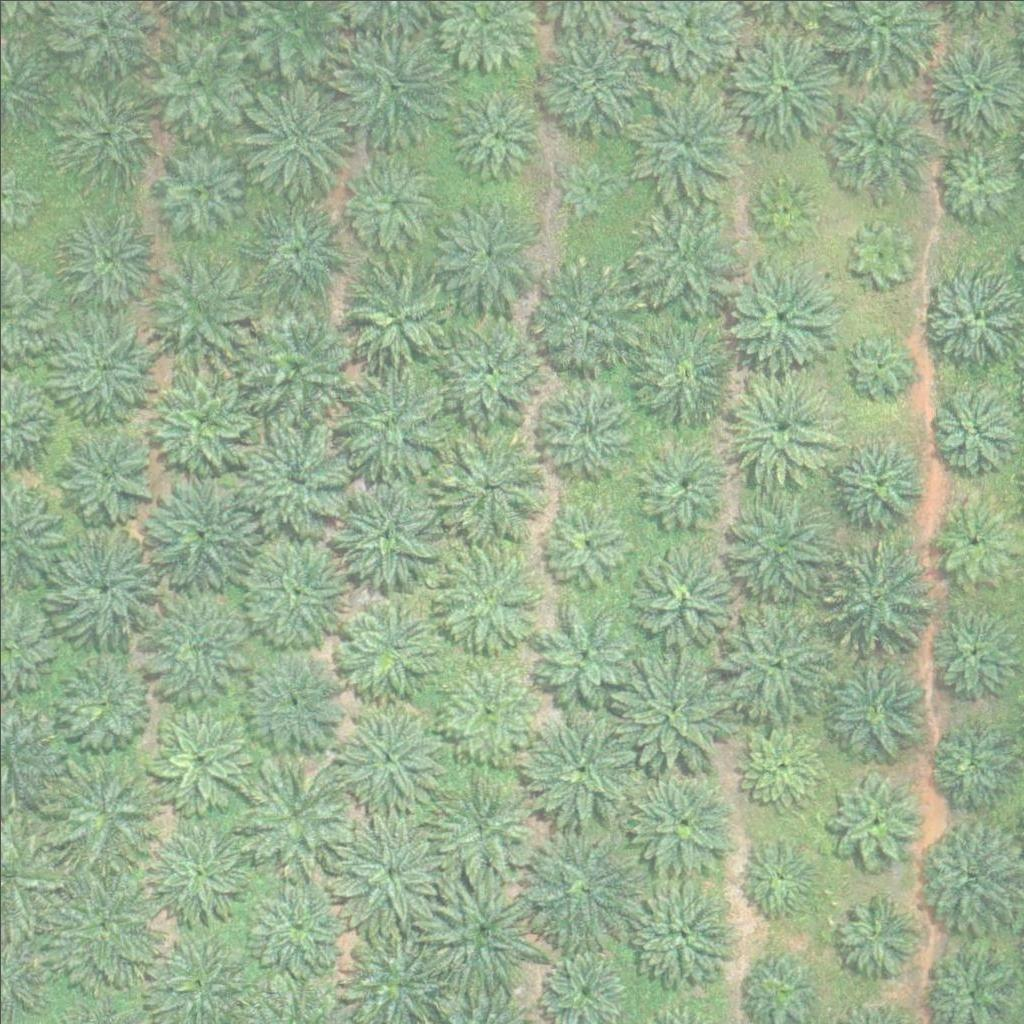Kelapa_Sawit: (815, 649, 928, 763), (823, 536, 936, 650), (335, 34, 448, 148), (429, 190, 542, 304), (817, 428, 930, 541), (725, 366, 838, 479), (626, 877, 739, 990), (625, 761, 738, 874), (522, 828, 635, 941), (524, 710, 637, 823), (428, 538, 541, 651), (436, 429, 549, 542), (240, 866, 353, 979), (236, 759, 349, 872), (239, 645, 352, 758), (136, 591, 249, 704), (144, 481, 257, 594), (43, 306, 156, 419), (142, 360, 255, 473), (331, 361, 444, 474), (340, 262, 453, 375), (431, 310, 544, 423), (632, 89, 745, 202), (723, 255, 836, 368), (726, 29, 839, 142), (718, 604, 830, 718), (721, 492, 833, 606), (624, 424, 736, 538), (142, 818, 254, 932), (47, 866, 159, 980), (50, 758, 162, 872), (530, 255, 642, 369), (627, 312, 739, 426), (617, 655, 729, 768), (623, 542, 735, 655), (426, 870, 538, 983), (424, 768, 536, 881), (335, 809, 447, 922), (334, 698, 446, 811), (329, 474, 441, 587), (241, 531, 353, 644), (240, 419, 352, 532), (49, 538, 161, 651), (141, 249, 253, 362), (238, 309, 350, 422), (242, 197, 354, 310), (240, 85, 352, 198), (535, 24, 647, 137), (624, 200, 736, 313), (823, 83, 935, 196), (536, 605, 636, 706), (440, 659, 540, 760), (340, 599, 440, 700), (150, 712, 250, 813), (55, 421, 155, 522), (57, 212, 157, 313), (60, 79, 160, 180), (147, 135, 247, 236), (147, 32, 247, 133), (923, 714, 1023, 814), (923, 600, 1023, 700), (826, 768, 926, 868), (533, 377, 633, 477), (54, 656, 154, 756), (343, 154, 443, 254), (445, 85, 545, 185), (930, 380, 1018, 468), (831, 889, 919, 977), (733, 835, 821, 923), (736, 721, 824, 809), (933, 140, 1021, 228), (931, 496, 1018, 584), (540, 499, 627, 587), (752, 178, 815, 241), (844, 332, 907, 395), (849, 221, 912, 284), (556, 158, 618, 221)
